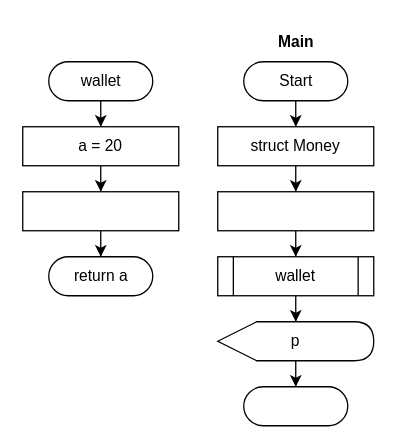
The diagram is 397 pixels wide and 448 high, and some of its shapes have lost their labels. The shapes that lost their labels are listed below. From the top down, each one's centre as x and y in pixels, then its label:
[100,210]: a + 30
[295,210]: struct Money p
[295,405]: End
